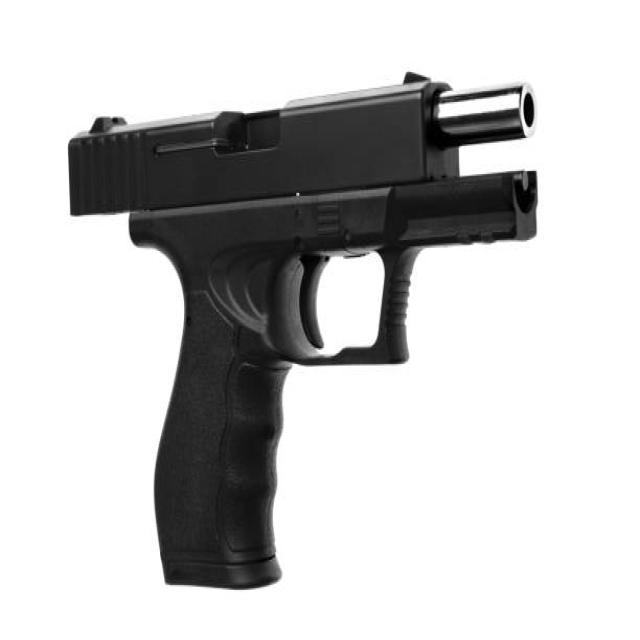pistol: (62, 62, 543, 596)
